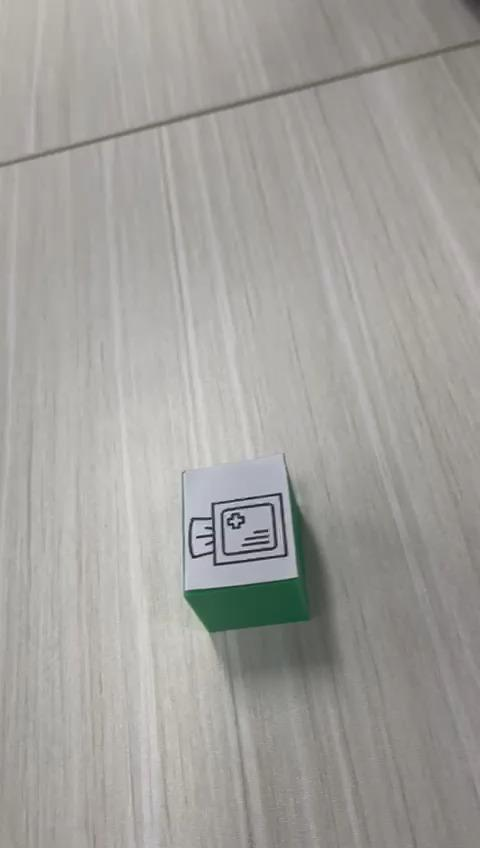Gauze: (180, 451, 311, 633)
